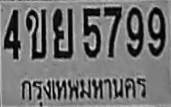4: (2, 8, 20, 58)
5: (82, 7, 100, 57)
7: (103, 6, 121, 57)
9: (146, 5, 164, 56), (126, 6, 143, 56)
A02: (24, 8, 46, 58)
A34: (52, 7, 72, 58)
BKK: (17, 73, 148, 106)
